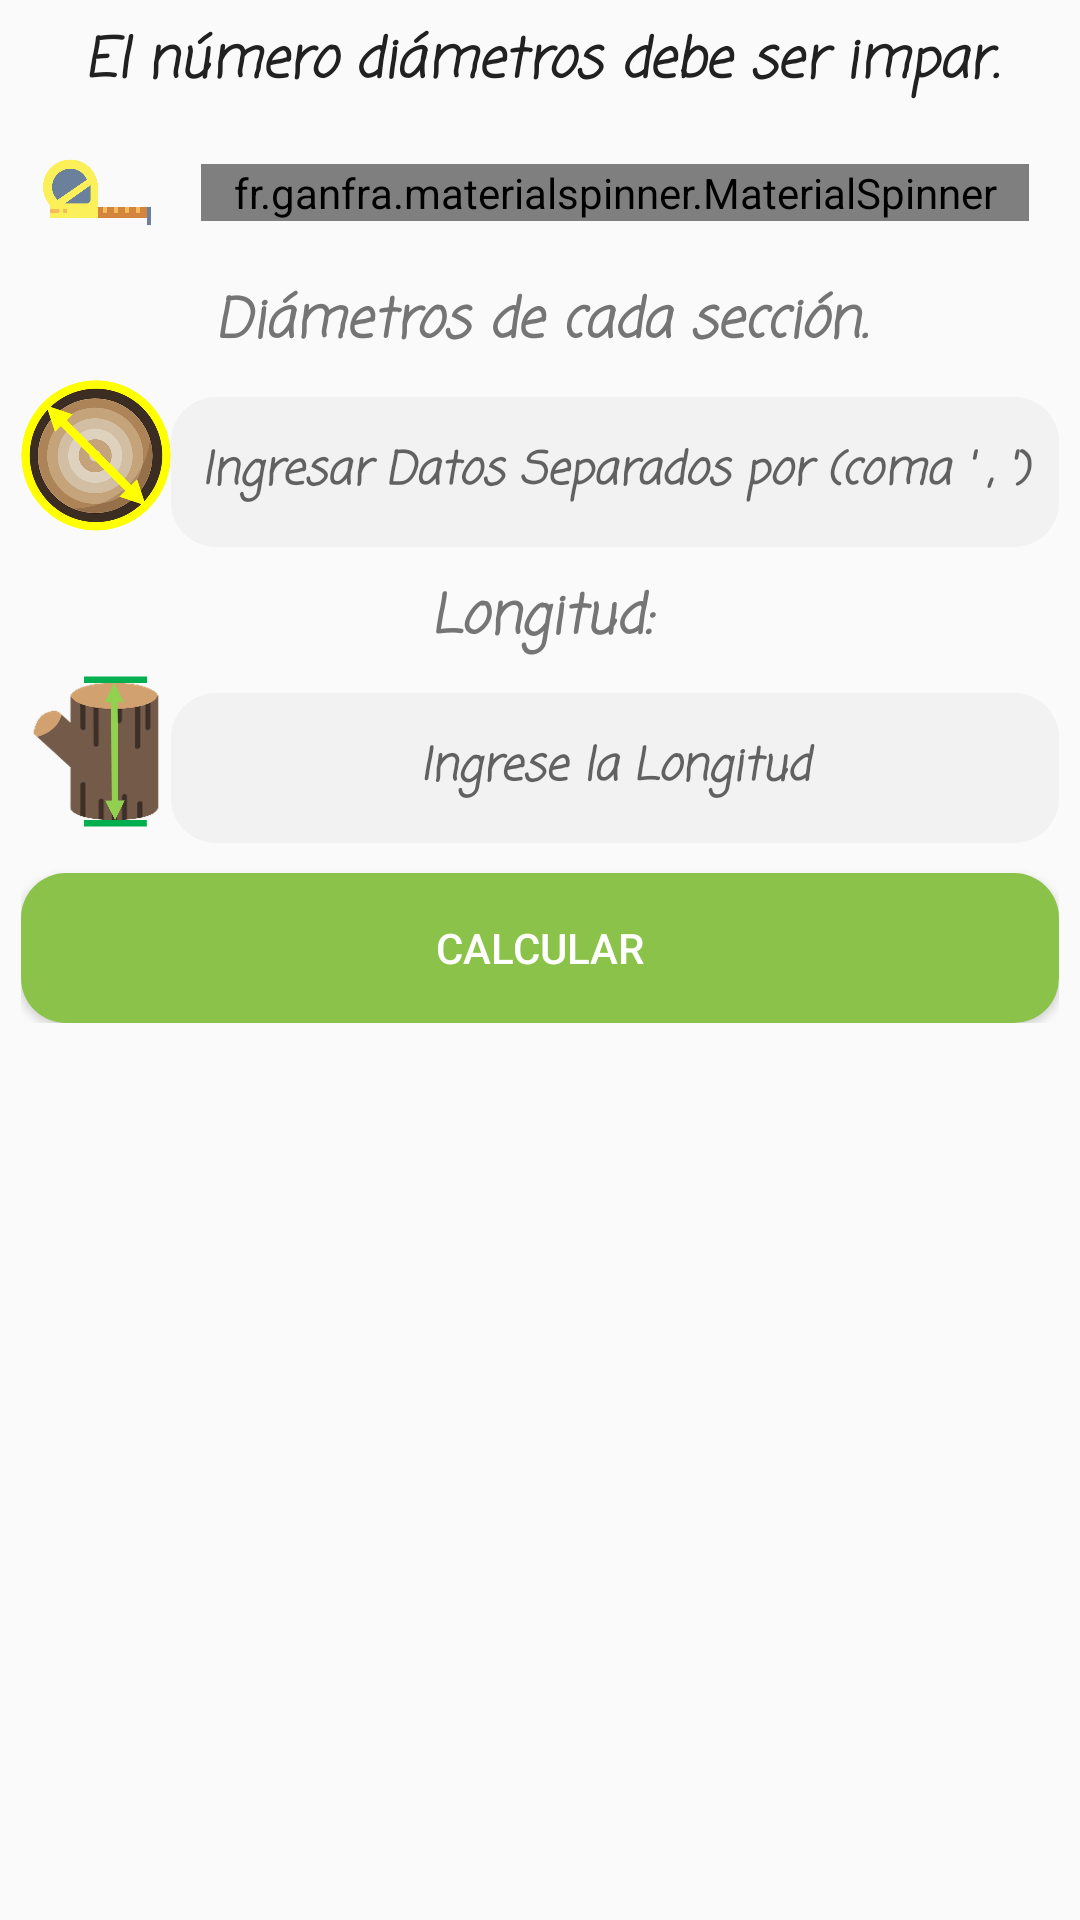

Named icons in this screenshot (1080 × 1920) and their bounding boxes, (x1, y1, x2, y2):
diameter: (21, 380, 171, 531)
meter: (43, 159, 151, 225)
